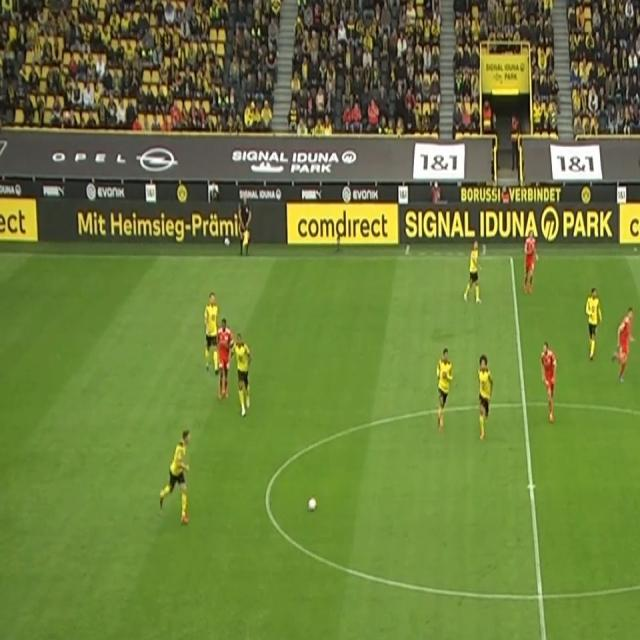ball: (306, 495, 318, 514)
